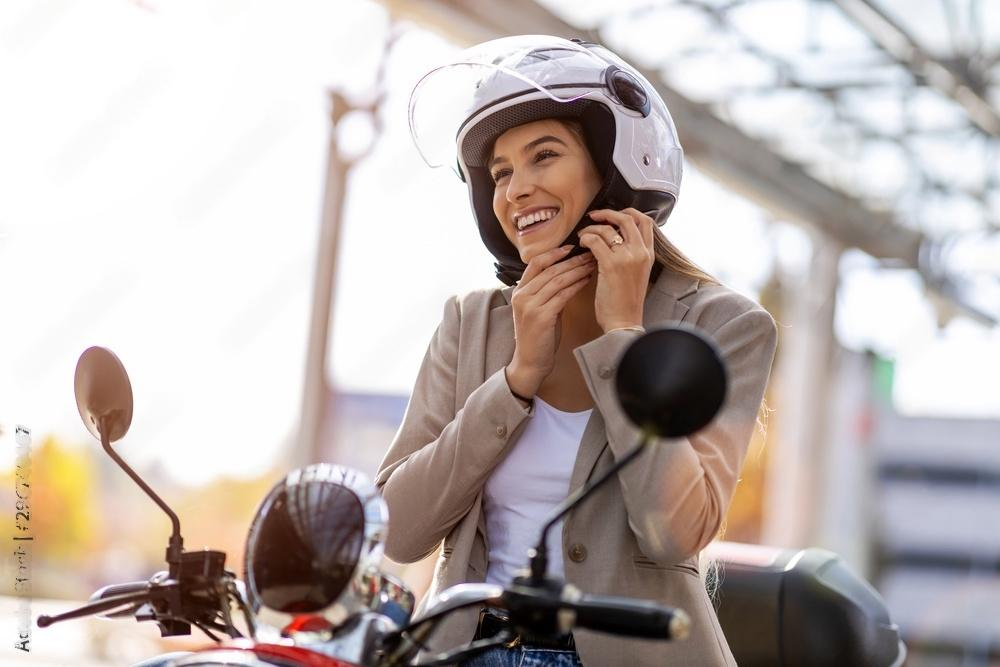helmet: (406, 33, 686, 288)
